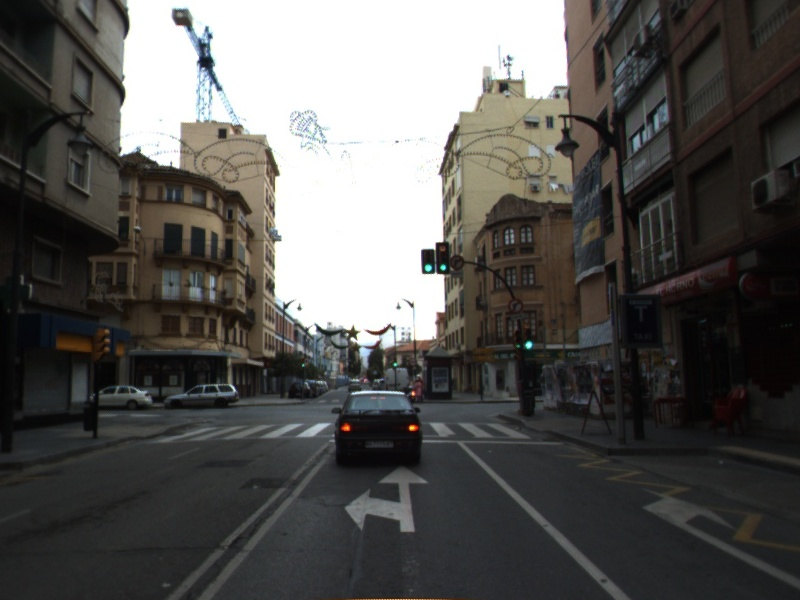RIGHT: (636, 483, 800, 591)
STRAIGHT_LEFT: (342, 461, 431, 535)
